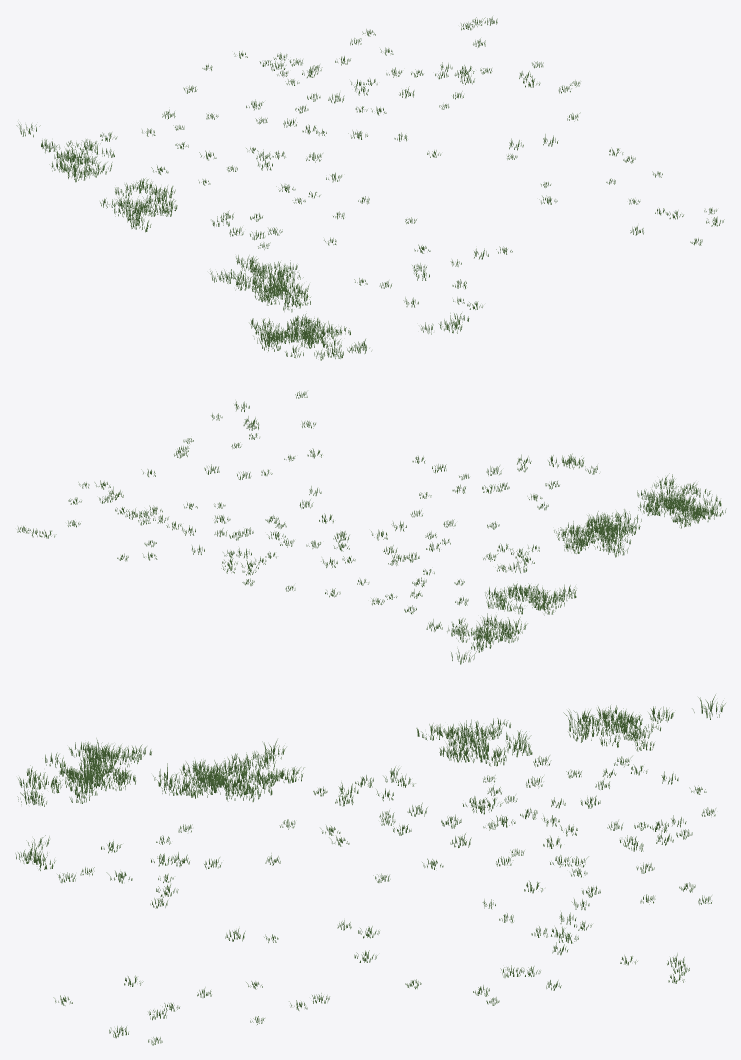
The model's file is P2N_forest_grass_-9_6.glb.
3 views of the same model, one above another, from view 1: azimuth 30°, elevation 25°; view 2: azimuth 150°, elevation 25°; view 3: azimuth 270°, elevation 25° (orthographic). The views are drawn at different scales.
Parts seen in each view (by area): view 1: P2N_forest_grass_-9_6; view 2: P2N_forest_grass_-9_6; view 3: P2N_forest_grass_-9_6.
Part boxes in pixels (x1,y1,x2,y2): P2N_forest_grass_-9_6: (16,16,724,360); P2N_forest_grass_-9_6: (17,391,726,664); P2N_forest_grass_-9_6: (15,694,725,1045).
Size of the model in its own units: 32.8 by 4.35 by 32.78.
